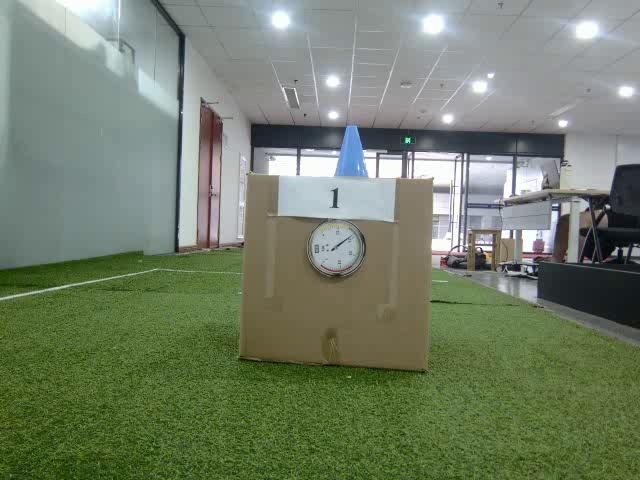1: (328, 186, 340, 211)
Dashboard: (306, 219, 368, 280)
blue_barrel: (332, 125, 374, 178)
ssi: (313, 242, 320, 254)
